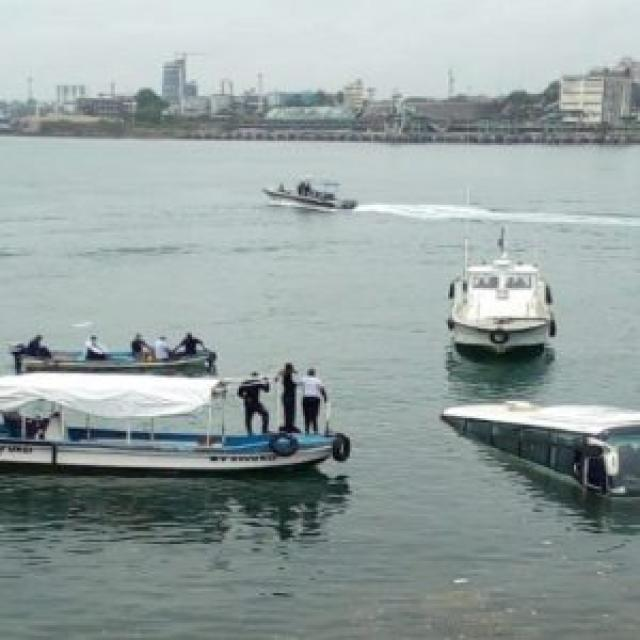houseboat: (443, 248, 567, 360)
